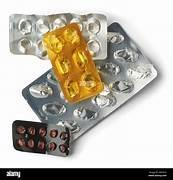pill_Strip: (22, 23, 156, 139), (43, 23, 103, 103), (9, 13, 106, 59), (12, 120, 70, 155)
